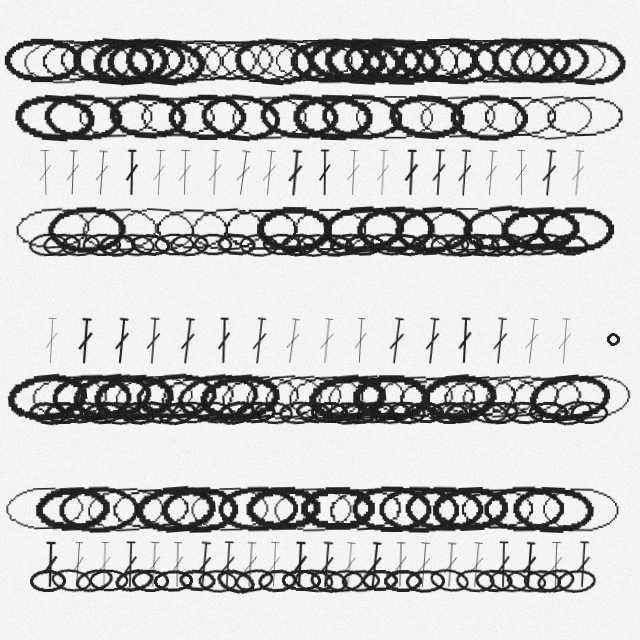chain: (174, 369, 262, 425), (460, 201, 545, 256), (4, 369, 89, 424), (70, 369, 155, 424), (526, 370, 612, 424), (122, 34, 207, 88), (232, 34, 317, 88), (261, 370, 346, 424), (155, 369, 238, 424), (198, 90, 282, 144), (197, 370, 281, 424), (70, 34, 155, 87), (217, 370, 302, 423), (324, 370, 409, 423), (305, 370, 388, 424), (134, 370, 218, 423), (133, 482, 217, 535), (511, 91, 596, 143), (242, 370, 325, 423), (481, 370, 564, 423), (550, 370, 633, 423), (12, 91, 96, 143), (91, 371, 175, 423), (418, 370, 500, 423), (439, 370, 521, 423), (304, 35, 387, 87), (114, 203, 197, 255), (112, 371, 195, 423), (395, 371, 478, 423), (458, 371, 541, 423), (321, 203, 405, 254), (90, 35, 172, 87), (545, 35, 627, 87), (386, 91, 468, 143), (392, 203, 474, 255), (470, 35, 553, 86), (525, 35, 608, 86), (42, 91, 125, 142), (258, 91, 341, 142), (506, 371, 587, 423), (253, 35, 335, 86), (107, 91, 189, 142), (12, 203, 94, 254), (187, 203, 269, 254), (105, 36, 188, 86), (320, 92, 403, 142), (511, 484, 594, 534), (322, 35, 403, 86), (325, 483, 406, 534), (509, 36, 591, 86), (417, 92, 499, 142), (79, 204, 161, 254), (84, 484, 166, 534), (109, 484, 191, 534), (56, 36, 137, 86), (499, 204, 580, 254), (285, 372, 366, 422), (374, 372, 455, 422), (430, 484, 511, 534), (271, 485, 355, 533), (342, 36, 424, 85), (417, 36, 499, 85), (435, 36, 517, 85), (291, 92, 373, 141), (543, 92, 625, 141), (355, 204, 437, 253), (3, 484, 85, 533), (188, 484, 270, 533), (33, 484, 113, 534), (490, 36, 571, 85), (21, 37, 103, 85), (46, 205, 128, 253), (51, 373, 133, 421), (29, 372, 109, 421), (353, 93, 436, 140), (144, 37, 225, 85), (289, 37, 370, 85), (379, 37, 460, 85), (229, 93, 310, 141), (58, 485, 139, 533), (217, 485, 298, 533), (378, 485, 459, 533), (404, 485, 485, 533), (483, 485, 564, 533), (183, 36, 262, 85), (199, 36, 278, 85), (244, 484, 323, 533), (218, 37, 300, 84), (351, 485, 433, 532), (361, 37, 441, 85), (76, 93, 156, 141), (137, 93, 217, 141), (536, 205, 616, 253), (160, 485, 240, 533), (540, 485, 620, 533), (273, 37, 354, 84), (397, 37, 478, 84), (452, 37, 533, 84), (167, 93, 248, 140), (425, 205, 506, 252), (39, 37, 118, 85), (449, 93, 528, 141), (153, 205, 232, 253), (458, 485, 537, 533), (3, 37, 83, 84), (163, 37, 243, 84), (290, 205, 370, 252), (481, 93, 560, 140), (221, 205, 300, 252), (255, 205, 334, 252), (351, 373, 430, 420), (299, 485, 377, 532), (551, 396, 595, 429), (214, 565, 257, 597), (214, 397, 257, 428), (73, 565, 116, 596), (156, 398, 198, 428), (510, 230, 553, 259), (428, 566, 471, 595), (134, 398, 176, 427), (113, 566, 155, 595), (233, 566, 275, 595), (535, 566, 576, 595), (385, 231, 427, 259), (27, 399, 69, 427), (308, 567, 350, 595), (505, 567, 547, 595), (193, 399, 235, 426), (467, 399, 509, 426), (50, 567, 92, 594), (293, 567, 335, 594), (328, 231, 369, 258), (368, 231, 409, 258), (489, 231, 530, 258), (62, 399, 103, 426), (129, 232, 171, 258), (97, 400, 139, 426), (488, 568, 530, 594), (279, 231, 319, 258), (294, 399, 334, 426), (114, 232, 155, 258), (295, 232, 336, 258), (371, 400, 412, 426), (556, 568, 597, 594), (444, 232, 484, 258), (118, 400, 158, 426), (324, 568, 364, 594), (60, 232, 101, 257), (459, 232, 500, 257), (526, 232, 567, 257), (235, 400, 276, 425), (253, 400, 294, 425), (504, 400, 545, 425), (28, 232, 68, 257), (169, 232, 209, 257), (216, 232, 256, 257), (409, 232, 449, 257), (83, 400, 123, 425), (278, 400, 318, 425), (339, 400, 379, 425), (356, 400, 396, 425), (387, 400, 427, 425), (257, 568, 297, 593), (455, 568, 495, 593), (474, 568, 514, 593), (42, 232, 81, 257), (444, 400, 483, 425), (481, 400, 520, 425), (178, 568, 217, 593), (239, 233, 279, 257), (344, 233, 384, 257), (430, 233, 470, 257), (473, 233, 513, 257), (153, 569, 193, 593), (405, 569, 445, 593), (98, 233, 137, 257), (314, 233, 353, 257), (327, 401, 366, 425), (198, 569, 237, 593), (341, 569, 380, 593), (154, 233, 194, 256), (193, 233, 233, 256), (262, 233, 302, 256), (172, 401, 212, 424), (528, 401, 568, 424), (89, 569, 129, 592), (281, 569, 321, 592), (551, 233, 589, 257), (523, 569, 561, 593), (82, 233, 121, 256), (44, 401, 83, 424), (310, 401, 349, 424), (406, 401, 445, 424), (429, 401, 468, 424), (570, 401, 609, 424), (131, 569, 170, 592), (383, 569, 422, 592), (29, 569, 67, 592), (361, 569, 399, 592)
double: (232, 149, 254, 197), (177, 317, 198, 365), (249, 317, 270, 365), (282, 317, 303, 365), (386, 317, 407, 365), (422, 317, 443, 365), (521, 317, 542, 365), (259, 149, 279, 197), (285, 149, 305, 197), (539, 149, 559, 197), (568, 149, 588, 197), (112, 317, 132, 365), (317, 317, 337, 365), (490, 317, 510, 365), (194, 541, 214, 589), (92, 149, 111, 197), (455, 149, 474, 197), (76, 317, 95, 365), (144, 317, 163, 365), (555, 317, 574, 365), (317, 541, 336, 589), (340, 541, 359, 589), (365, 541, 384, 589), (414, 541, 433, 589), (441, 541, 460, 589), (467, 541, 486, 589), (520, 541, 539, 589), (241, 541, 260, 588), (482, 149, 500, 197), (150, 149, 168, 196), (206, 149, 224, 196), (344, 149, 362, 196), (374, 149, 392, 196), (402, 149, 420, 196), (430, 149, 448, 196), (456, 317, 474, 364), (69, 541, 87, 588), (145, 541, 163, 588), (219, 541, 237, 588), (265, 541, 283, 588), (291, 541, 309, 588), (574, 541, 592, 588), (64, 149, 81, 196), (176, 149, 193, 196), (43, 317, 60, 364), (352, 317, 369, 364), (42, 541, 59, 588), (96, 541, 113, 588), (122, 541, 139, 588), (169, 541, 186, 588), (392, 541, 409, 588), (495, 541, 512, 588), (547, 541, 564, 588), (37, 149, 53, 196), (513, 149, 529, 196), (216, 317, 232, 364), (124, 149, 139, 196), (317, 149, 332, 196)
noise: (605, 331, 621, 347)
